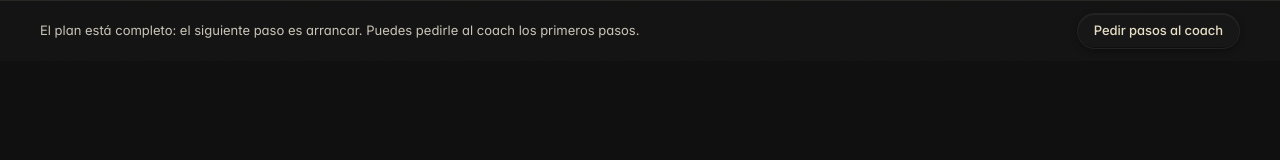
Scenario: ArranqueStrip — the conversation and the step list move together › shows the proposals in the chat and adds the one the person accepts
This screenshot has width=1280, height=160.
Click the button "Pedir pasos al coach". click: (1158, 31)
box: [1077,13,1240,49]
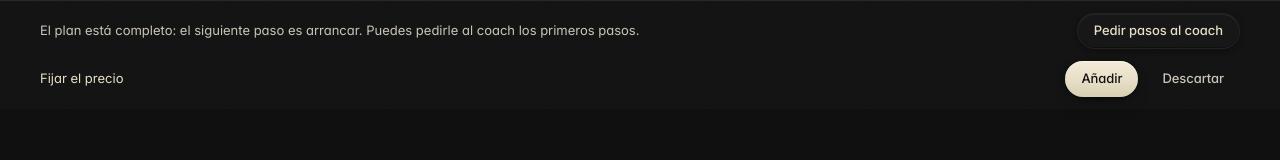
Click the button with aria-label "Añadir al arranque: Fijar el precio". click: (1102, 79)
box: [1065,61,1138,97]
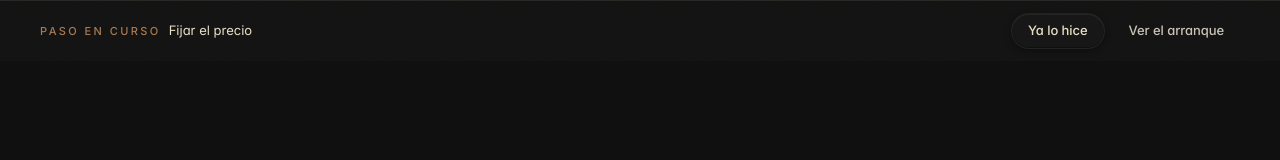
Expected: the text "Paso en curso" is shown, [40,24,161,38]
